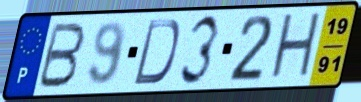2: (226, 13, 275, 84)
3: (177, 13, 227, 87)
9: (87, 19, 127, 88)
B: (34, 22, 88, 91)
D: (130, 18, 182, 87)
H: (267, 10, 324, 84)
